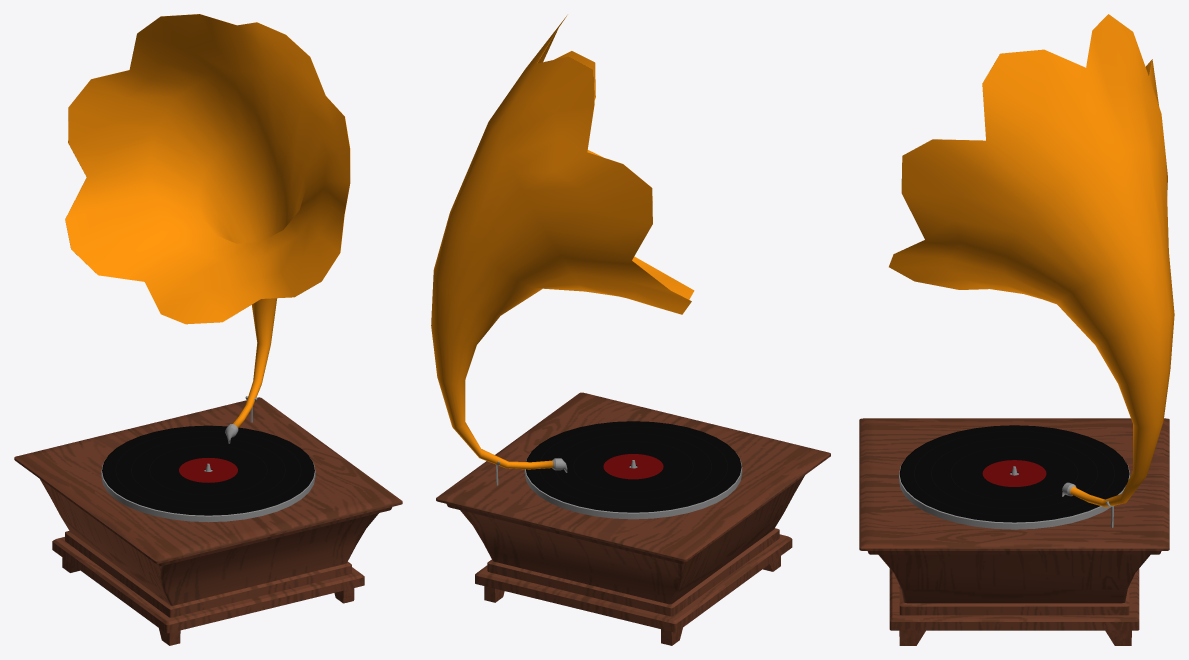
Rendered from Recorder.fbx.
3 views of the same model, side by side, from view 1: azimuth 30°, elevation 25°; view 2: azimuth 150°, elevation 25°; view 3: azimuth 270°, elevation 25° (orthographic). The views are drawn at different scales.
Parts seen in each view (by area): view 1: Cylinder003, Box001, Cylinder002, Cylinder008; view 2: Cylinder003, Box001, Cylinder002, Cylinder008; view 3: Cylinder003, Box001, Cylinder002, Cylinder008.
Boxes of the visible parts, box(x1,y1,x2,y2) form: Cylinder003: box(65, 14, 350, 443); Box001: box(14, 397, 402, 645); Cylinder002: box(102, 425, 314, 515); Cylinder008: box(101, 396, 315, 522); Cylinder003: box(431, 14, 694, 472); Box001: box(436, 392, 830, 645); Cylinder002: box(526, 421, 741, 512); Cylinder008: box(496, 459, 742, 519); Cylinder003: box(889, 14, 1174, 507); Box001: box(859, 418, 1169, 645); Cylinder002: box(899, 425, 1129, 522); Cylinder008: box(899, 464, 1130, 529).
Size of the model in its own units: 23.38 by 45.78 by 22.51.
